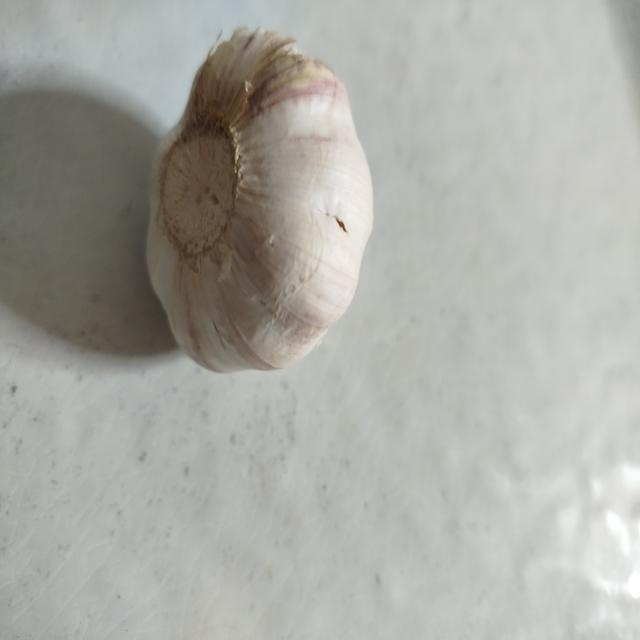garlic: (144, 24, 374, 374)
